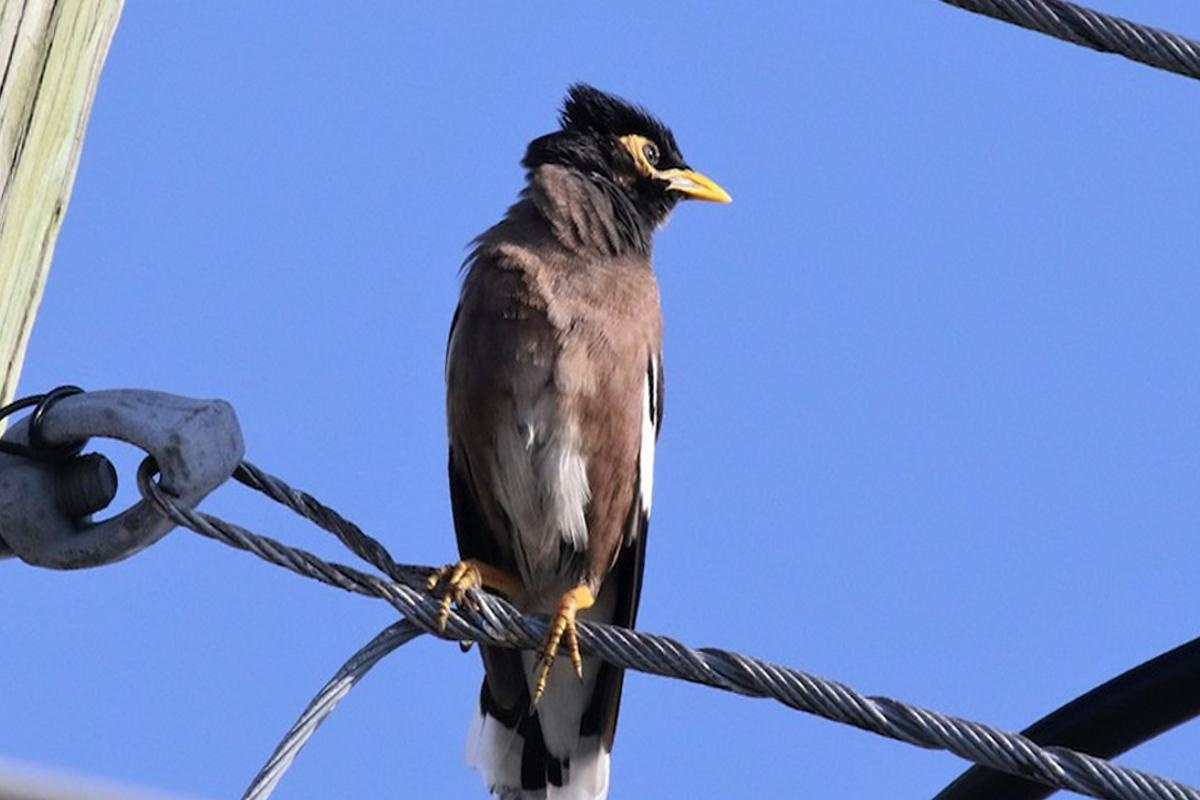myna: (369, 92, 758, 708)
